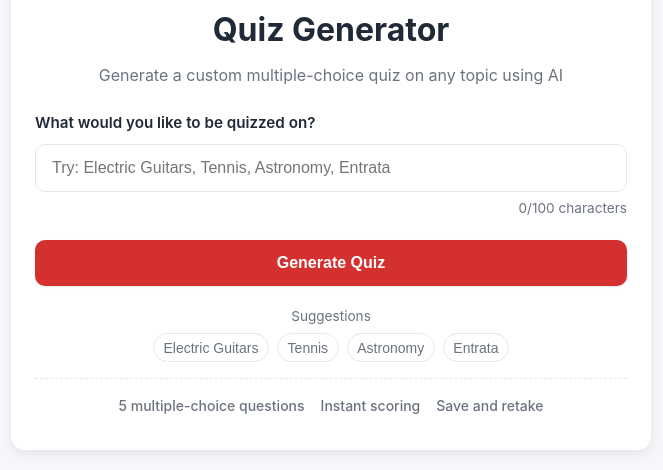
it: QuizGenerator › shows character count
Type "Python" into the field labelled "What would you like to be quizzed on?" at [331, 168], box [35,144,627,192]
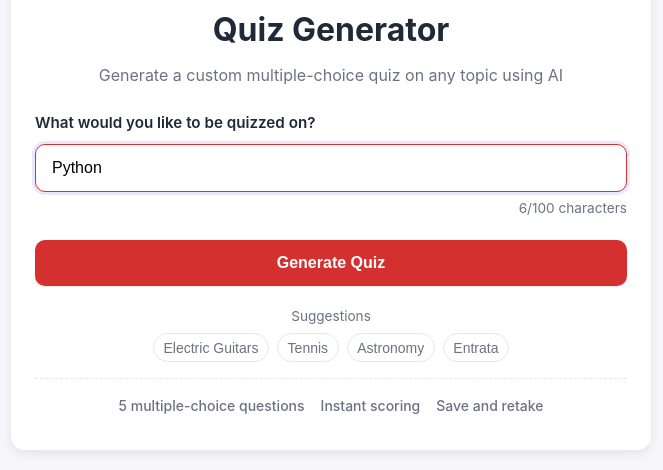
Expected: the text "6/100 characters" is shown, [519,200,627,216]
